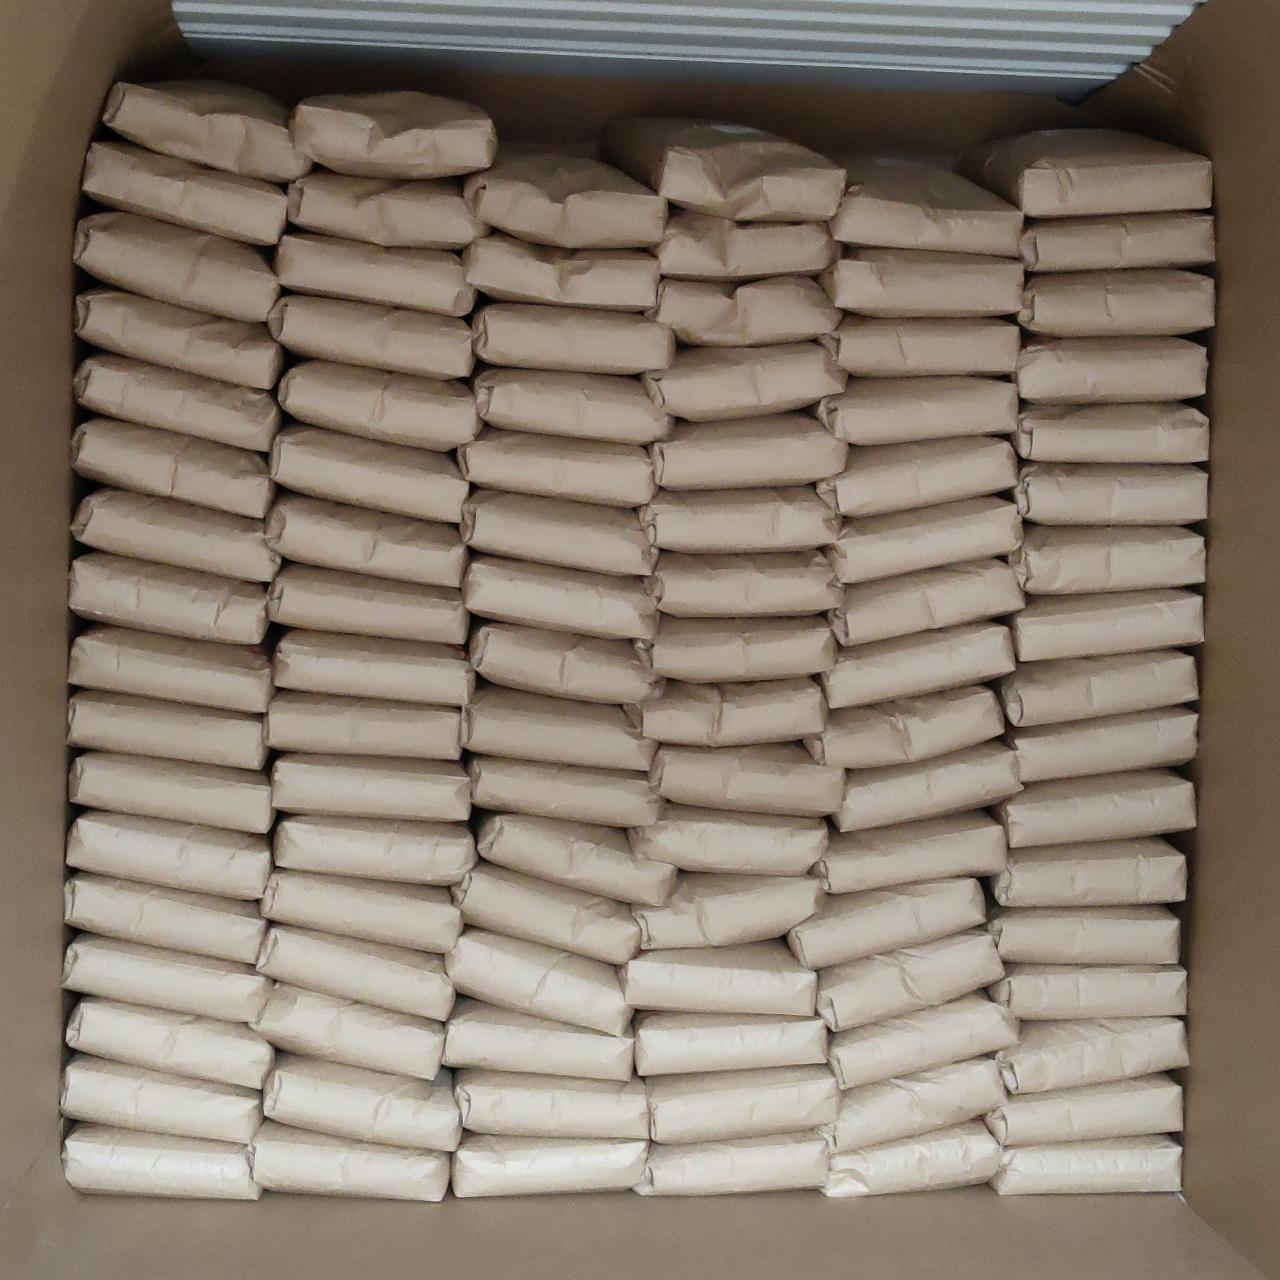sack: (606, 118, 844, 220), (76, 212, 278, 318), (958, 130, 1210, 214), (84, 142, 286, 244), (104, 80, 310, 180), (78, 290, 284, 386), (74, 418, 274, 516), (466, 148, 666, 246), (76, 354, 278, 450), (830, 156, 1022, 254), (74, 488, 278, 580), (264, 1054, 458, 1150), (270, 424, 468, 518), (454, 862, 638, 962), (260, 926, 454, 1020), (448, 930, 630, 1030), (818, 930, 1000, 1030), (252, 984, 444, 1078), (266, 492, 466, 582), (66, 998, 270, 1086), (70, 552, 268, 642), (64, 934, 270, 1020), (66, 874, 264, 962), (476, 814, 674, 902), (278, 362, 478, 448), (62, 1056, 262, 1142), (830, 994, 1016, 1086), (790, 878, 984, 966), (68, 812, 270, 896), (270, 294, 470, 378), (70, 626, 270, 710), (290, 92, 494, 174), (276, 232, 474, 316), (824, 1058, 1004, 1150), (836, 742, 1020, 830), (462, 490, 654, 574), (828, 498, 1020, 582), (830, 560, 1022, 644), (262, 870, 462, 950), (70, 752, 274, 830), (270, 564, 468, 644), (822, 622, 1014, 704), (806, 686, 1002, 766), (464, 684, 654, 766), (464, 556, 654, 638), (644, 344, 846, 420), (816, 812, 1006, 892), (996, 770, 1194, 846), (456, 430, 654, 506), (288, 170, 486, 246), (470, 624, 662, 702), (474, 368, 670, 444), (818, 438, 1014, 514), (70, 690, 266, 766), (250, 1122, 446, 1198), (464, 234, 658, 310), (446, 998, 630, 1078), (998, 652, 1196, 726), (648, 1066, 838, 1142), (274, 630, 474, 702), (66, 1124, 260, 1198), (622, 940, 814, 1014), (472, 304, 674, 374), (650, 414, 846, 486), (998, 1018, 1186, 1092), (636, 874, 822, 948), (276, 816, 476, 884), (650, 744, 844, 814), (1008, 708, 1196, 780), (1010, 590, 1202, 660), (470, 756, 662, 826), (824, 1120, 1000, 1196), (822, 250, 1022, 316), (272, 754, 470, 820), (816, 378, 1014, 444), (630, 806, 828, 872), (266, 692, 462, 758), (640, 486, 838, 550), (988, 1076, 1180, 1142), (654, 210, 838, 278), (1010, 526, 1204, 590), (1018, 270, 1212, 334), (992, 838, 1186, 902), (626, 680, 826, 742), (454, 1072, 646, 1136), (648, 278, 838, 342), (1014, 462, 1206, 524), (644, 616, 834, 678), (650, 552, 838, 614), (640, 1132, 828, 1194), (454, 1134, 646, 1194), (1016, 338, 1206, 398), (636, 1014, 826, 1074), (822, 316, 1018, 374), (1014, 404, 1206, 462), (1018, 214, 1214, 270), (990, 906, 1178, 962), (992, 1136, 1180, 1192), (992, 966, 1186, 1018)
